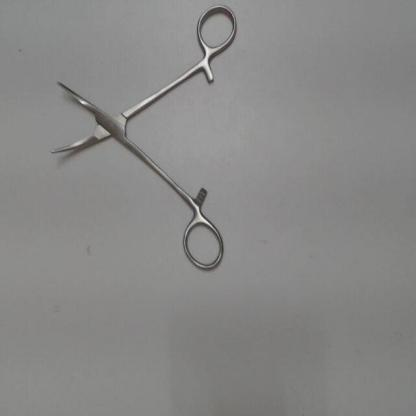Crile Artery Forceps: (47, 2, 237, 279)
